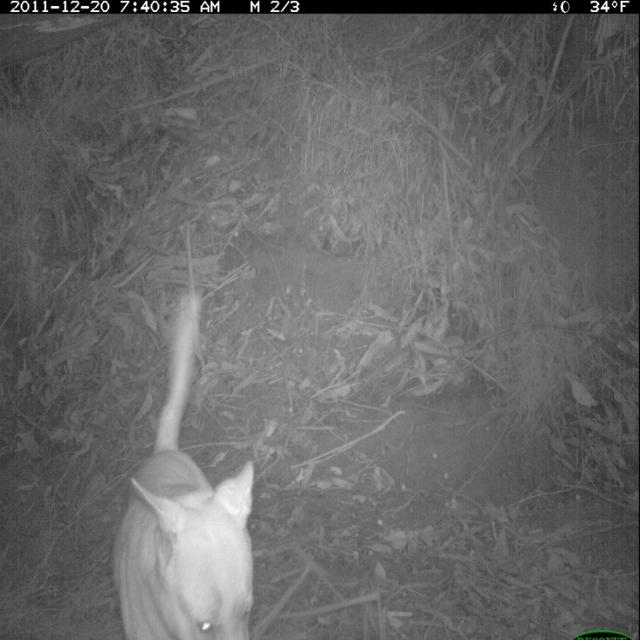dog: (104, 266, 284, 638)
